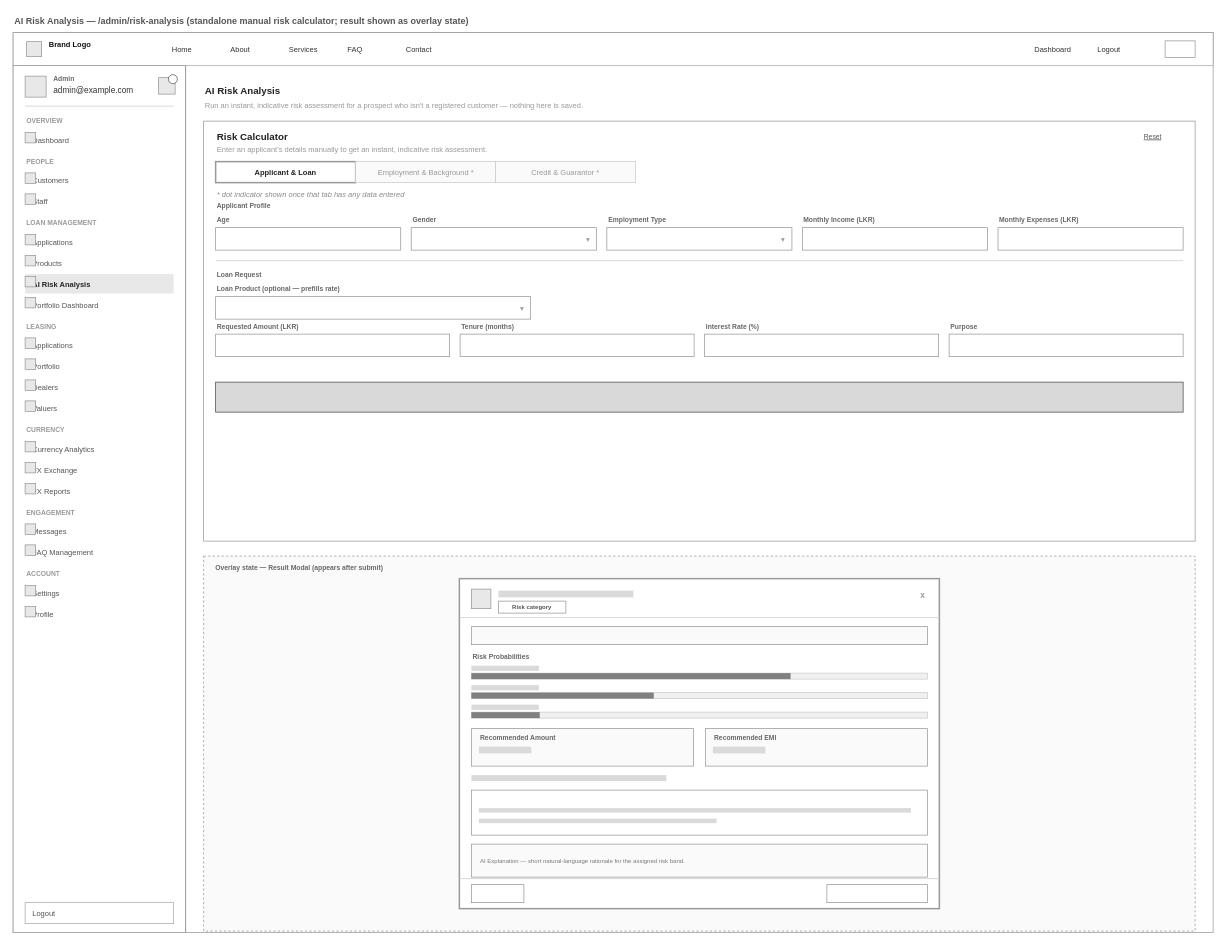
The diagram is 1227 pixels wide and 947 high, and some of its shapes have lost their labels. The centre of each missing label's shape, as x and y in pixels:
"Close" belongs at point (497, 893).
"Credit Policy check (pass/fail criteria)" belongs at point (699, 812).
"EN ▾" belongs at point (1179, 48).
"Indicative estimate only — nothing has been saved." belongs at point (699, 635).
"New Assessment" belongs at point (876, 893).
"Run Risk Assessment" belongs at point (699, 396).
